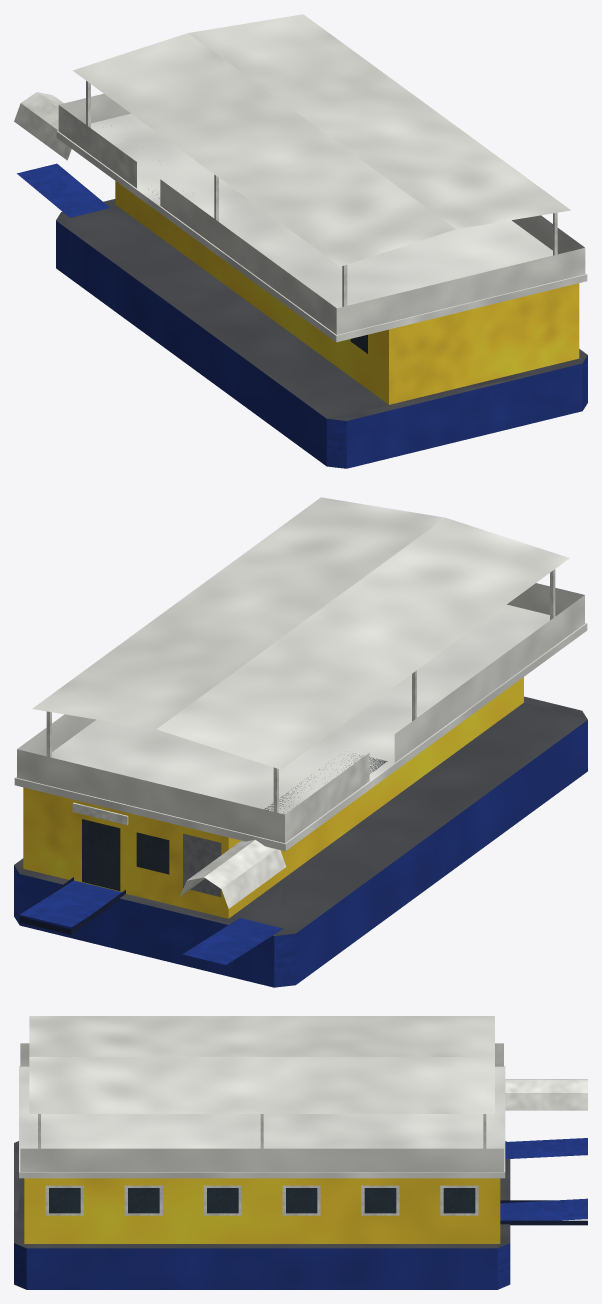
File: SM_MoloItalia_RistorantePiccioni_LOD2.fbx
3 renders of one model, top to bottom at view 1: azimuth 30°, elevation 25°; view 2: azimuth 150°, elevation 25°; view 3: azimuth 270°, elevation 25°, orthographic. The views are drawn at different scales.
Parts seen in each view (by area): view 1: SM_MoloItalia_RistorantePiccioni_LOD2; view 2: SM_MoloItalia_RistorantePiccioni_LOD2; view 3: SM_MoloItalia_RistorantePiccioni_LOD2.
Part boxes in pixels (x1,y1,x2,y2): SM_MoloItalia_RistorantePiccioni_LOD2: [14, 14, 587, 468]; SM_MoloItalia_RistorantePiccioni_LOD2: [14, 497, 587, 987]; SM_MoloItalia_RistorantePiccioni_LOD2: [14, 1016, 587, 1289].
Size of the model in its own units: 1030 by 2255 by 770.
1 material, 1 textured.
